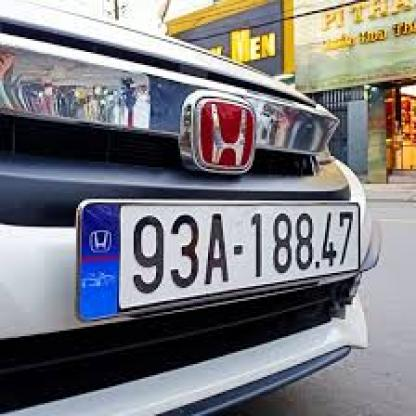biensoxe: (81, 200, 362, 323)
